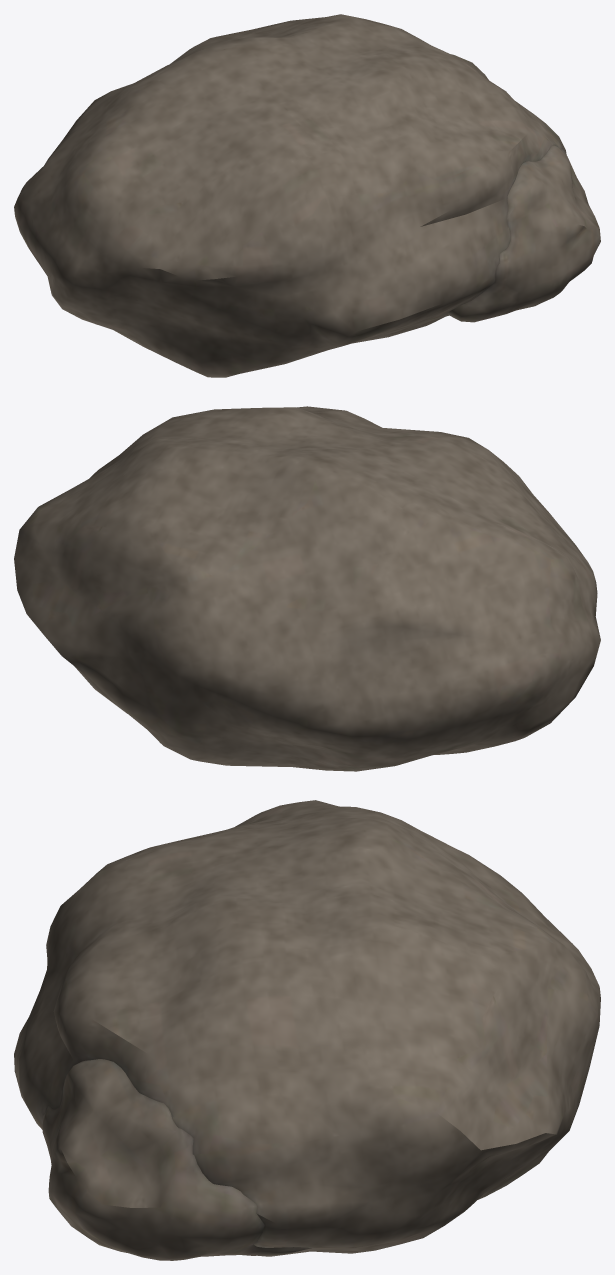
Rendered from rock_large.glb.
3 views of the same model, one above another, from view 1: azimuth 30°, elevation 25°; view 2: azimuth 150°, elevation 25°; view 3: azimuth 270°, elevation 25° (orthographic). The views are drawn at different scales.
Visible parts, largest first — view 1: rock_large; view 2: rock_large; view 3: rock_large.
Part boxes in pixels (<box>): rock_large: <box>14,14,600,377</box>; rock_large: <box>14,406,600,771</box>; rock_large: <box>14,800,600,1260</box>.
Bounding box in the file's own units: 2.91 × 1.57 × 2.42.
1 material, 1 textured.
